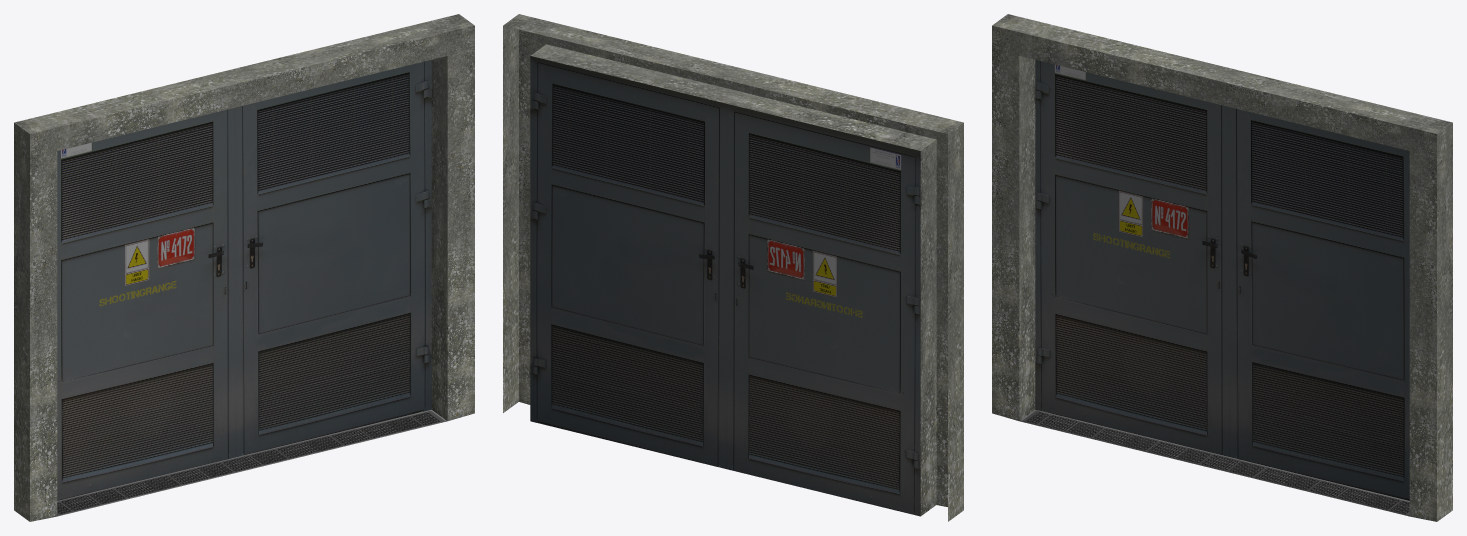
File: door.FBX
3 views of the same model, side by side, from view 1: azimuth 30°, elevation 25°; view 2: azimuth 150°, elevation 25°; view 3: azimuth 330°, elevation 25° (orthographic).
Visible parts, largest first — view 1: Plane001; view 2: Plane001; view 3: Plane001.
Boxes of the visible parts, box(x1,y1,x2,y2) form: Plane001: box(14, 14, 474, 521); Plane001: box(503, 14, 963, 521); Plane001: box(992, 14, 1452, 521).
Bounding box in the file's own units: 3.22 × 2.69 × 0.1982.
